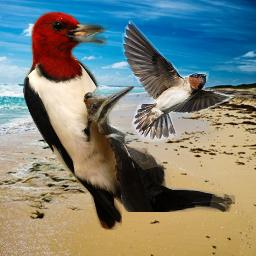Swallow: (121, 20, 241, 142)
Woodpecker: (51, 86, 235, 212), (22, 11, 122, 230)
